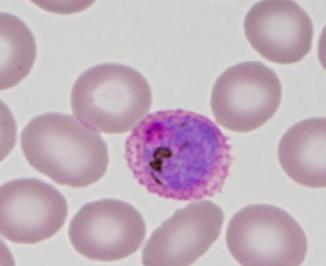Infected: (124, 108, 233, 202)
Uninfected: (22, 113, 110, 186), (72, 62, 153, 135), (143, 200, 223, 266), (210, 60, 282, 133), (228, 204, 307, 266), (69, 197, 145, 260), (243, 0, 313, 64), (1, 178, 66, 244), (276, 117, 326, 187)
